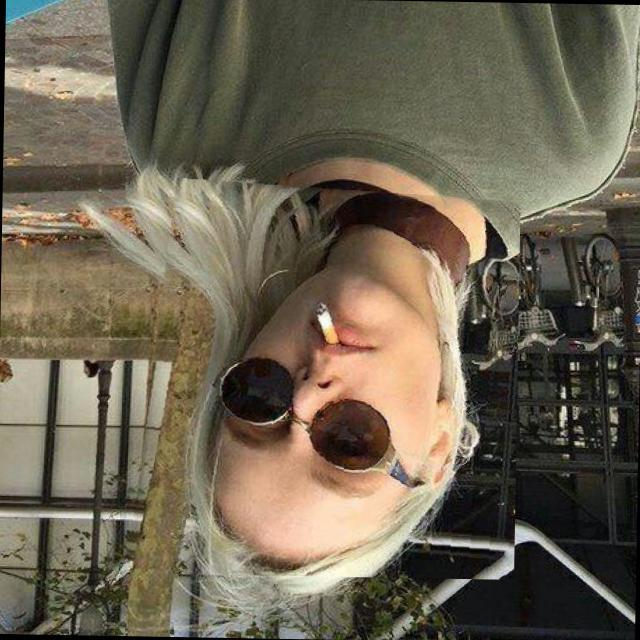cigarette: (282, 288, 318, 339)
